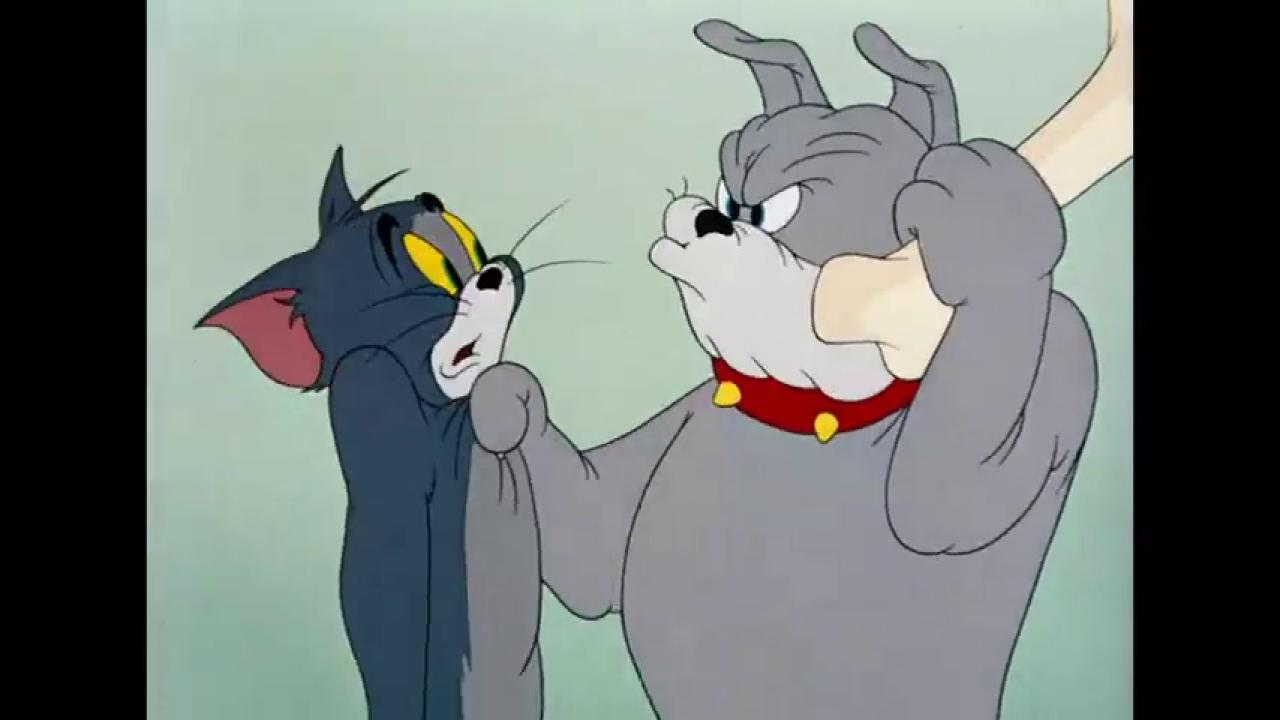Tom: (188, 139, 548, 720)
